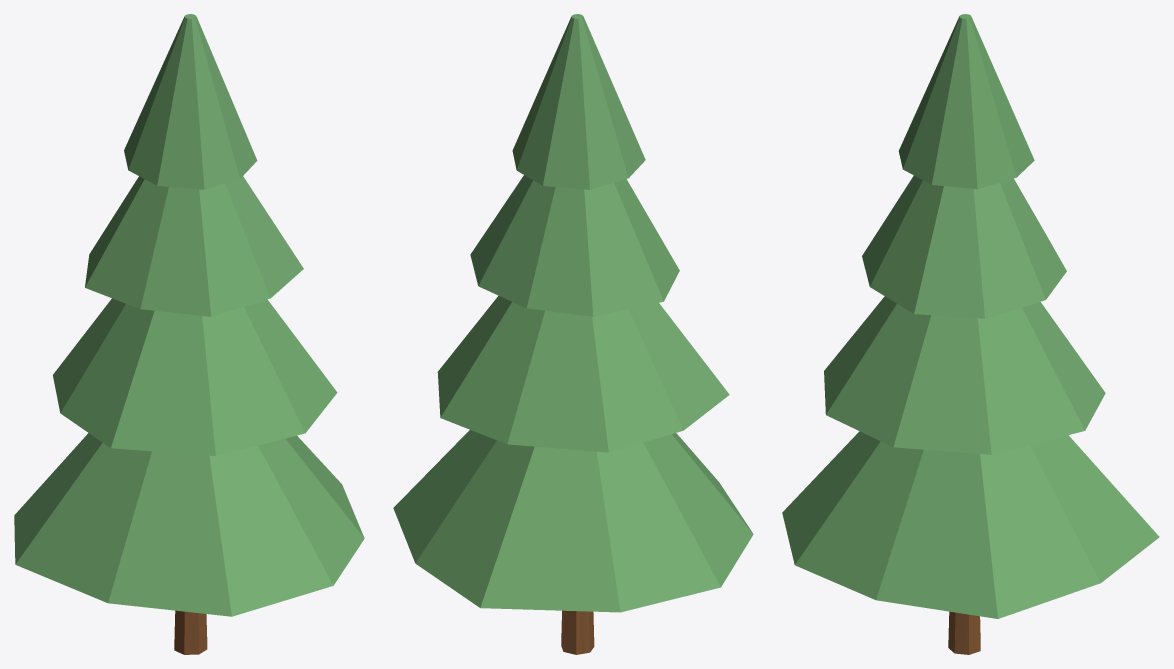
The model's file is Tree_B.glb.
3 renders of one model, left to right at view 1: azimuth 30°, elevation 25°; view 2: azimuth 150°, elevation 25°; view 3: azimuth 270°, elevation 25°, orthographic.
Parts seen in each view (by area): view 1: Foliage, Trunk; view 2: Foliage, Trunk; view 3: Foliage, Trunk.
Part boxes in pixels (box(x1,y1,x2,y2)): Foliage: box(14, 14, 364, 616); Trunk: box(174, 610, 207, 654); Foliage: box(393, 14, 753, 612); Trunk: box(561, 610, 594, 654); Foliage: box(782, 14, 1159, 618); Trunk: box(948, 611, 980, 654).
Bounding box in the file's own units: 3.09 × 5.7 × 3.09.
2 materials, 1 textured.
